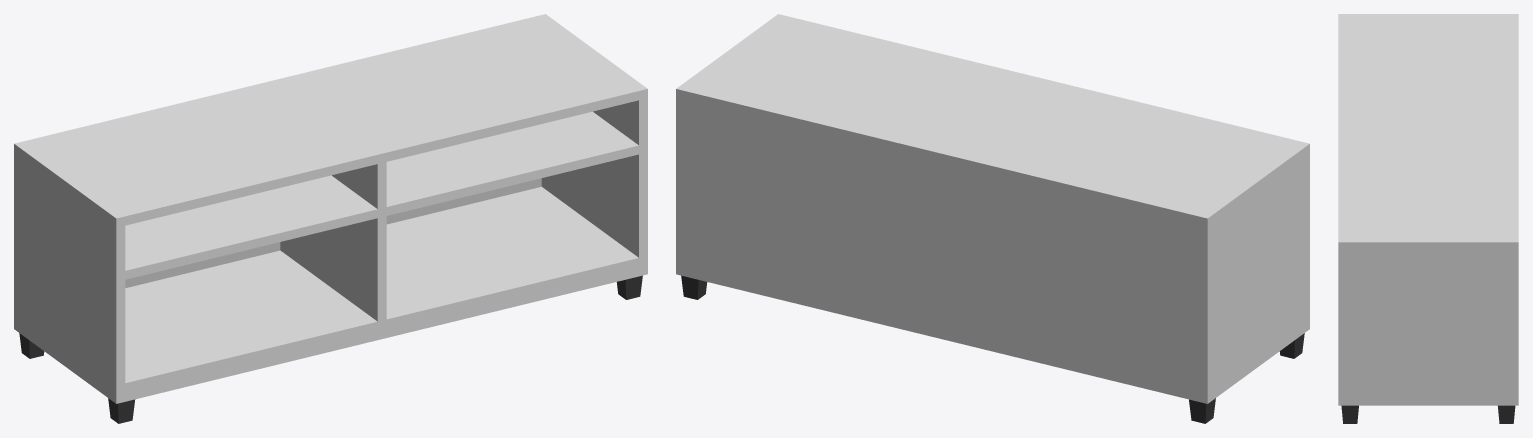
Rendered from TV_Table3_C1.fbx.
3 renders of one model, left to right at view 1: azimuth 30°, elevation 25°; view 2: azimuth 150°, elevation 25°; view 3: azimuth 270°, elevation 25°, orthographic. The views are drawn at different scales.
Parts seen in each view (by area): view 1: TV_Table3_C1; view 2: TV_Table3_C1; view 3: TV_Table3_C1.
Part boxes in pixels (x1,y1,x2,y2): TV_Table3_C1: (14, 14, 647, 423); TV_Table3_C1: (676, 14, 1309, 423); TV_Table3_C1: (1338, 14, 1518, 423).
Size of the model in its own units: 120 by 45 by 40.
